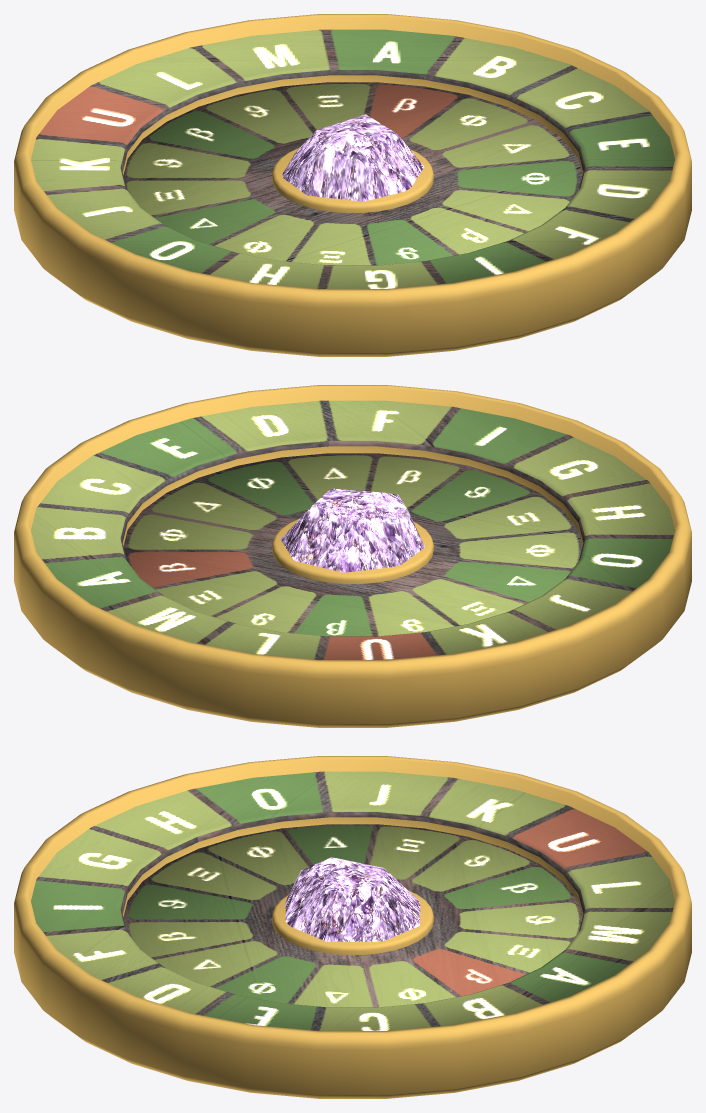
File: RuletaModel.fbx
3 views of the same model, one above another, from view 1: azimuth 30°, elevation 25°; view 2: azimuth 150°, elevation 25°; view 3: azimuth 270°, elevation 25° (orthographic).
Visible parts, largest first — view 1: Rueda2, Rueda1; view 2: Rueda2, Rueda1; view 3: Rueda2, Rueda1.
Boxes of the visible parts, x1,y1,x2,y2 form: Rueda2: (14, 14, 691, 356); Rueda1: (123, 82, 582, 265); Rueda2: (14, 385, 691, 727); Rueda1: (123, 453, 582, 636); Rueda2: (14, 756, 691, 1098); Rueda1: (123, 824, 582, 1007).
Size of the model in its own units: 62.48 by 9.55 by 62.83.
Materials: 1 (1 with a texture image).
